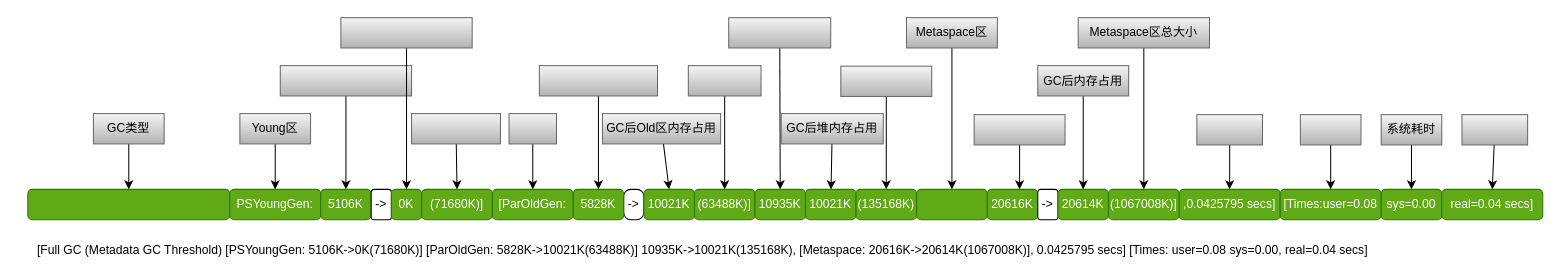
This 1560x278 diagram has some shape labels left out. Each missing label, with the centre of its shape:
[Full GC(Metadata GC Threshold): the point at 128,204
[Metspace:: the point at 951,204
GC前Old区内存占用: the point at 598,80
GC前Young区内存占用: the point at 345,80
GC前内存占用: the point at 1019,129
GC前堆内存占用: the point at 779,32
GC后Young区内存占用: the point at 406,32
GC耗时: the point at 1229,129
JVM堆总大小: the point at 886,80
Old区: the point at 532,128
Old区总大小: the point at 724,80
Young区总大小: the point at 455,128
实际耗时: the point at 1494,129
用户耗时: the point at 1330,129
